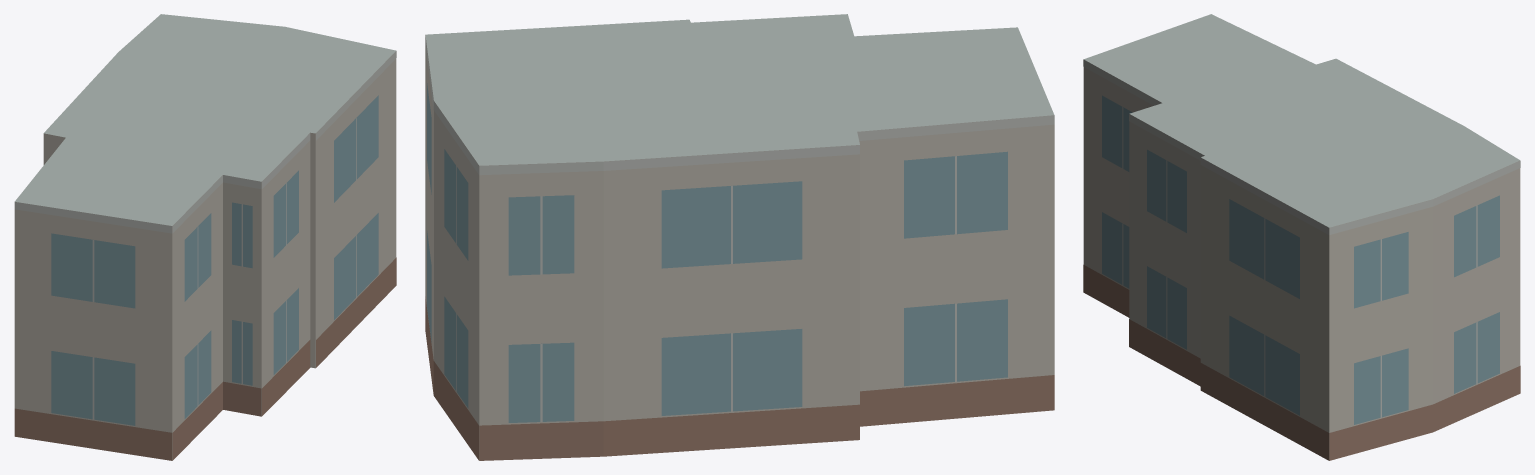
File: survey-upis-32691588.glb
The picture shows the model from 3 angles, left to right: view 1: azimuth 30°, elevation 25°; view 2: azimuth 150°, elevation 25°; view 3: azimuth 270°, elevation 25°; orthographic projection. The views are drawn at different scales.
Visible parts, largest first — view 1: survey-upis-32691588.tmp; view 2: survey-upis-32691588.tmp; view 3: survey-upis-32691588.tmp.
Part boxes in pixels (x1,y1,x2,y2): survey-upis-32691588.tmp: (14, 14, 396, 460); survey-upis-32691588.tmp: (425, 14, 1054, 460); survey-upis-32691588.tmp: (1083, 14, 1520, 460).
Bounding box in the file's own units: 14.95 × 7.6 × 12.92.
